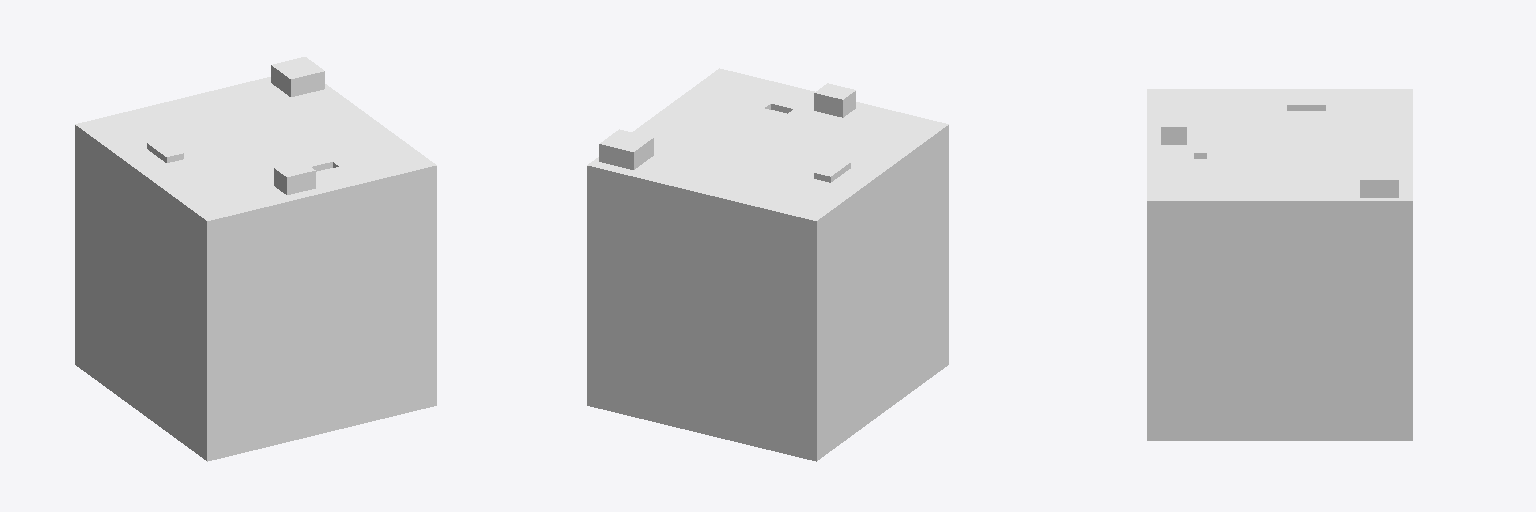
The model's file is snowfloor2.obj.
The picture shows the model from 3 angles: view 1: azimuth 30°, elevation 25°; view 2: azimuth 150°, elevation 25°; view 3: azimuth 270°, elevation 25°; orthographic projection.
Visible parts, largest first — view 1: object 1; view 2: object 1; view 3: object 1.
Boxes of the visible parts, box(x1,y1,x2,y2) form: object 1: box(75, 57, 436, 461); object 1: box(587, 68, 948, 461); object 1: box(1147, 89, 1412, 440).
Size of the model in its own units: 4 by 4.3 by 4.